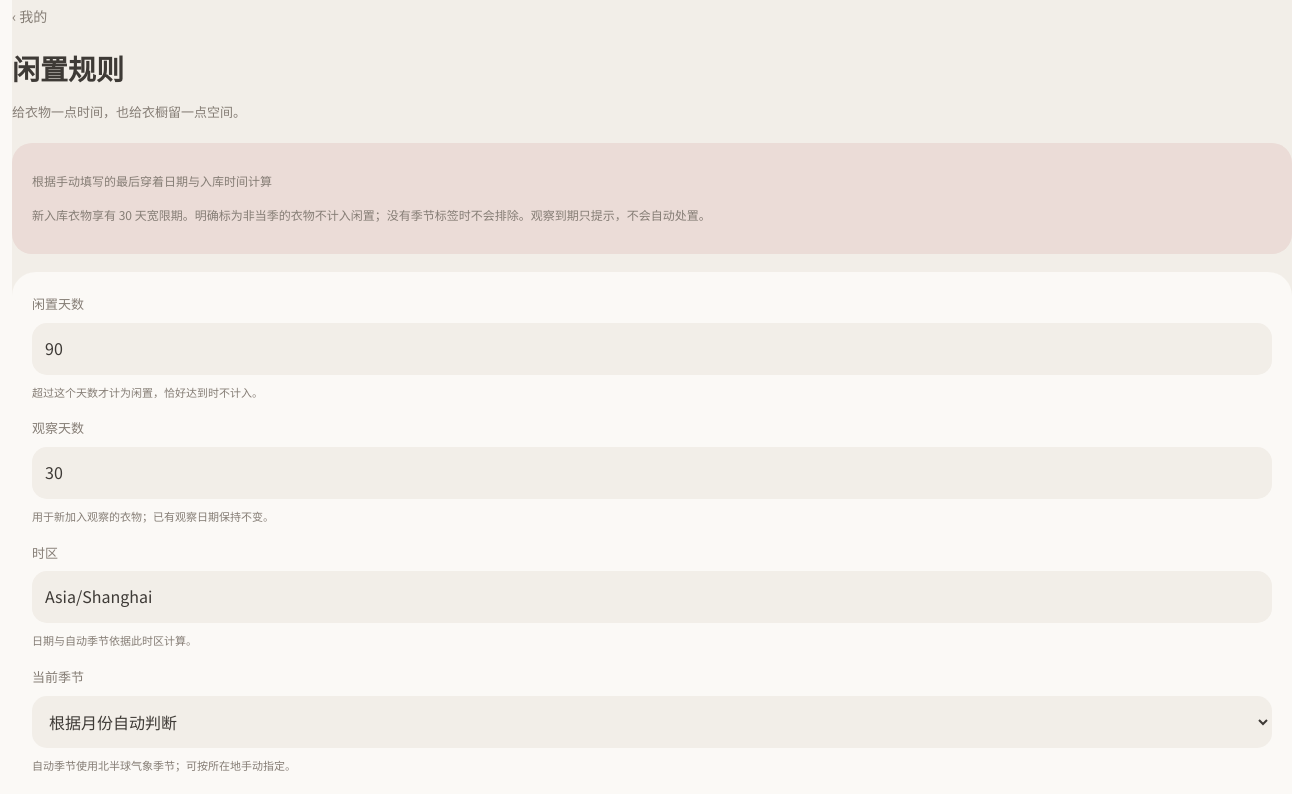
Test: loads settings and retains edits after failure before saving the user's values
The image size is (1292, 794).
Replace the text in the number field labelled "闲置天数" with "120": (652, 349) x1=32 y1=323 x2=1272 y2=375
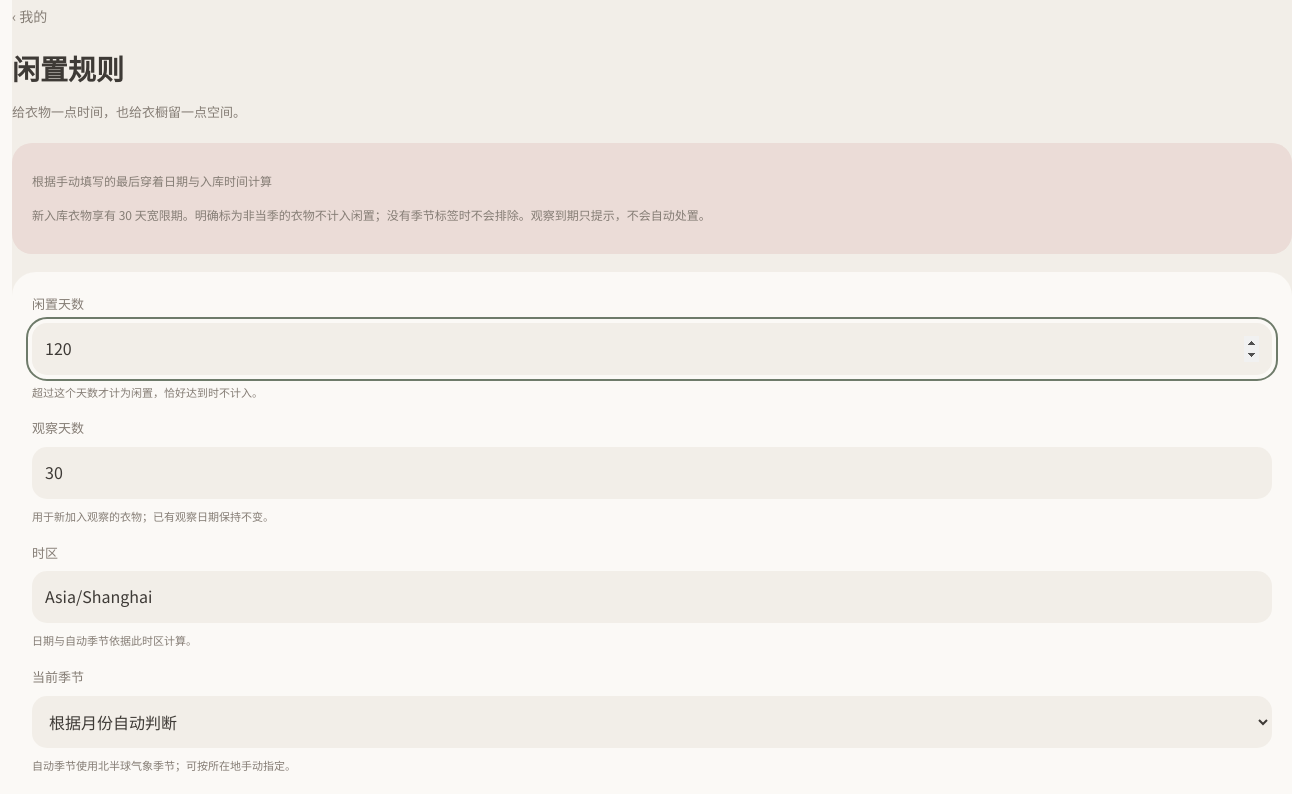
Select "冬" in the dropdown labelled "当前季节": (652, 722) x1=32 y1=696 x2=1272 y2=748
(page scrolled)
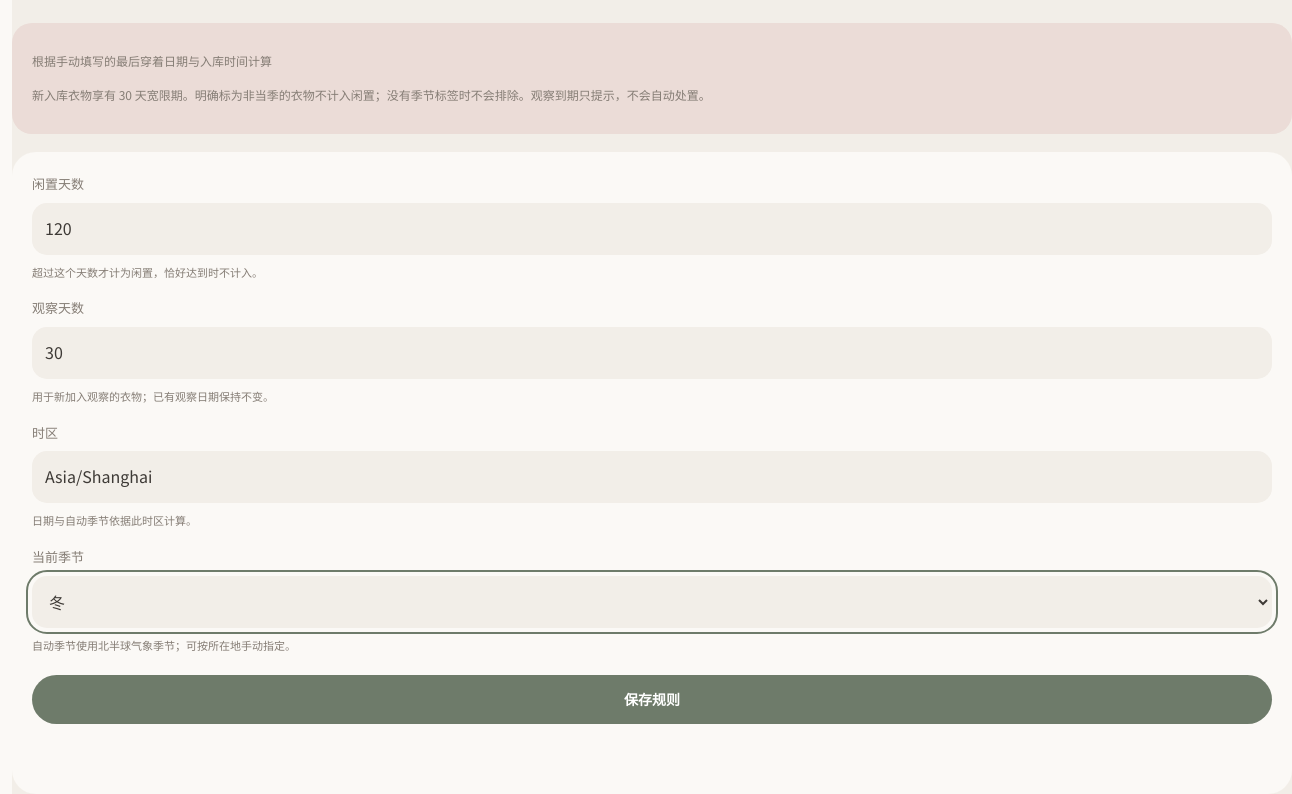
Click the button "保存规则": (652, 700) x1=32 y1=675 x2=1272 y2=724
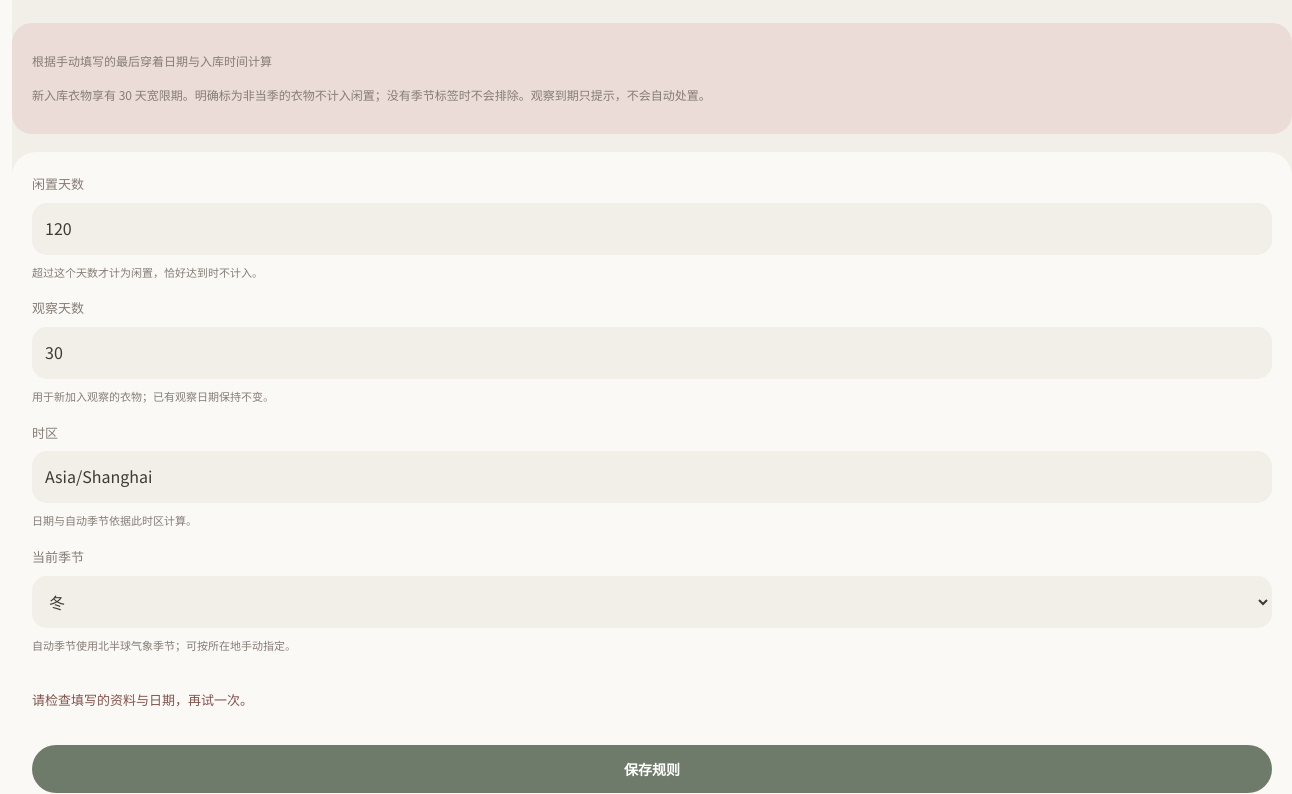
Expected: the message "请检查填写的资料与日期，再试一次。" is shown, x1=32 y1=690 x2=253 y2=709
Click the button "保存规则": (652, 769) x1=32 y1=745 x2=1272 y2=793
(page scrolled)
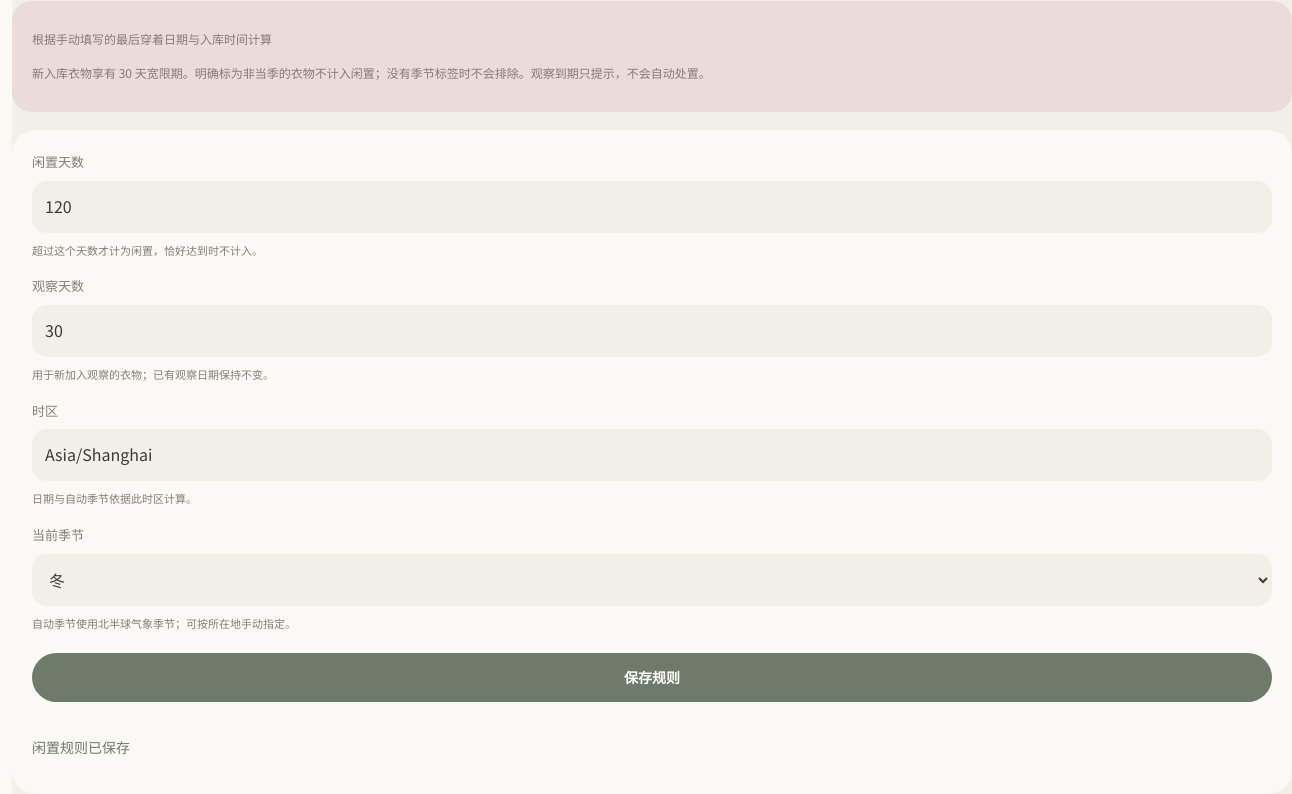
Expected: the text "闲置规则已保存" is shown, x1=32 y1=737 x2=130 y2=757
